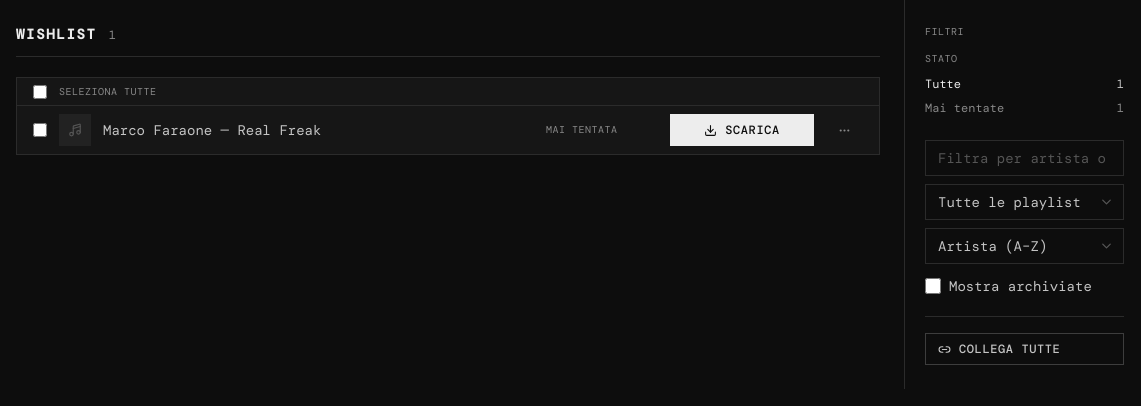
Scenario: esito dell'accodamento a traccia singola › accodata: lo dice
The width and height of the screenshot is (1141, 406).
Click the button "Scarica": coordinates (742, 130) [670, 114, 814, 146]
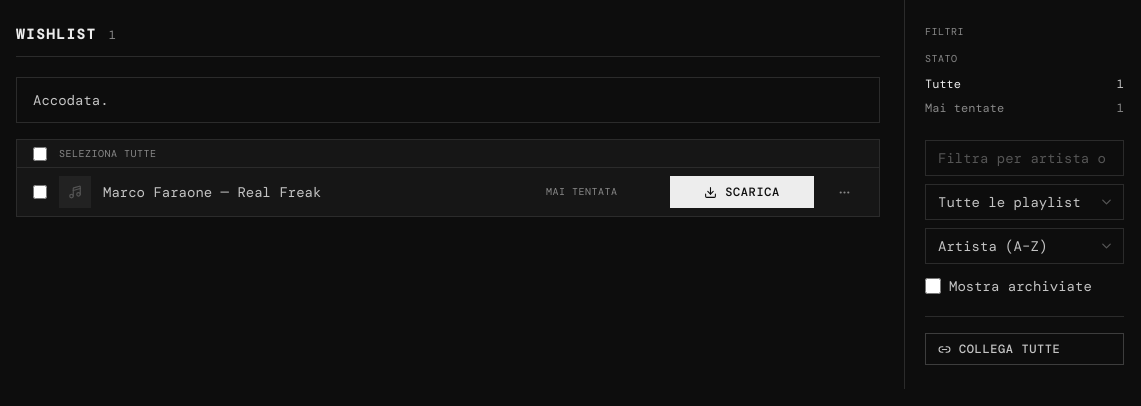
expect the text "Accodata." is shown: met, box [16, 77, 880, 123]
